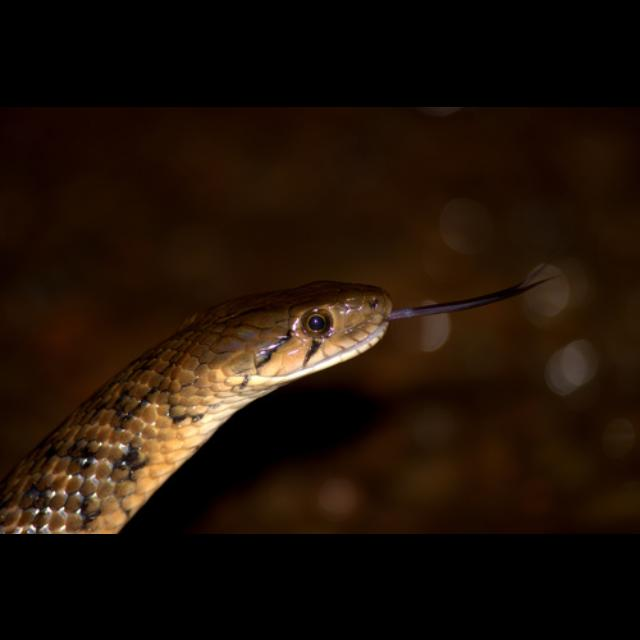snake: (1, 258, 560, 534)
